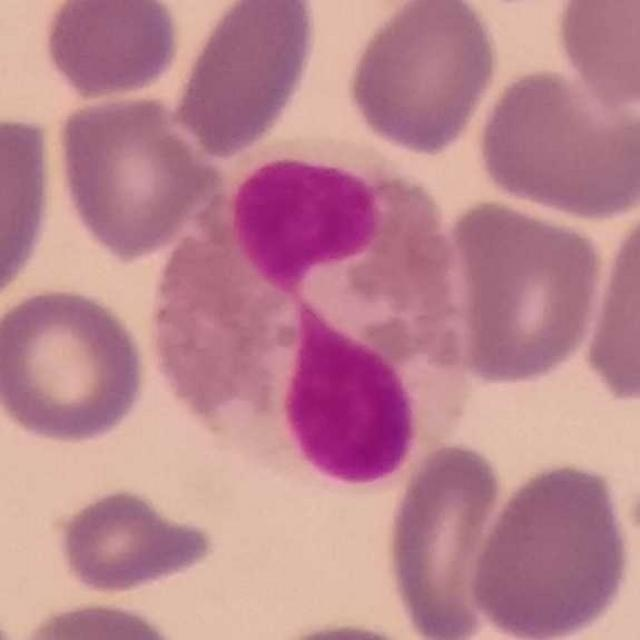eosino: (154, 131, 480, 495)
